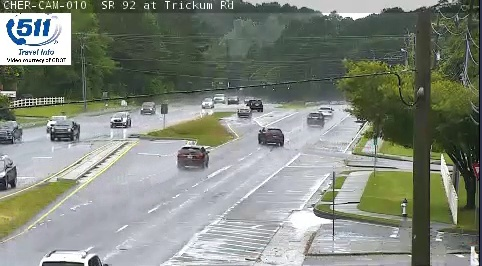car: (178, 146, 208, 167), (262, 127, 283, 145), (307, 112, 323, 126)
